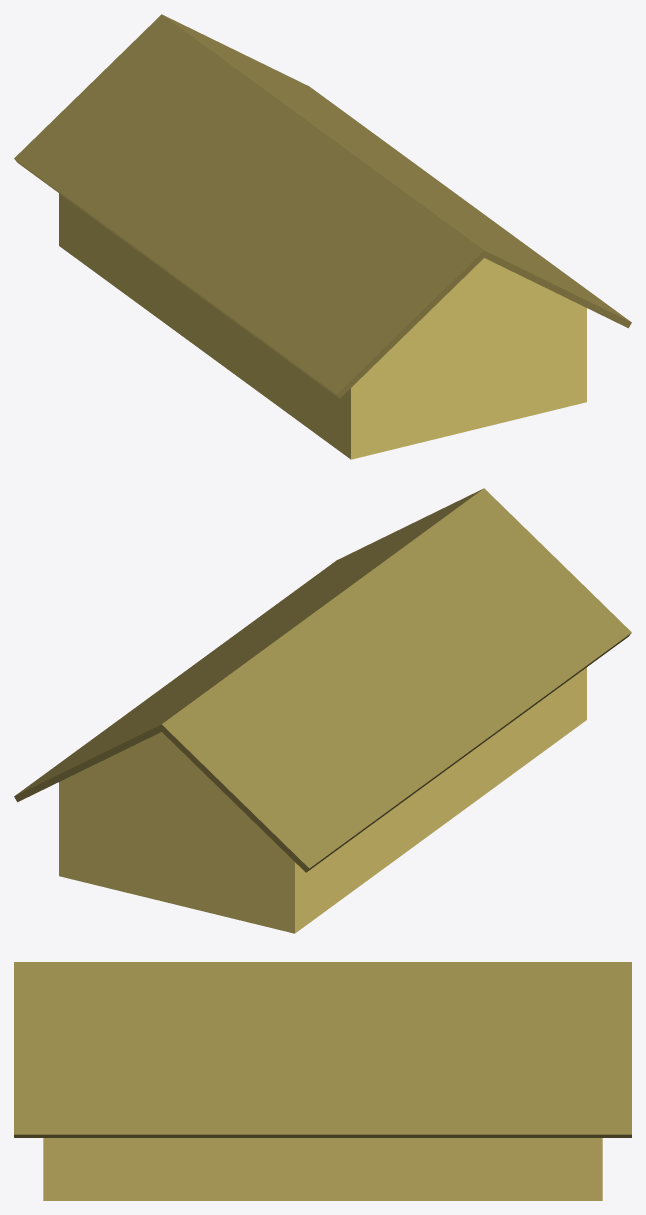
File: result.glb
3 views of the same model, one above another, from view 1: azimuth 30°, elevation 25°; view 2: azimuth 150°, elevation 25°; view 3: azimuth 270°, elevation 25° (orthographic). The views are drawn at different scales.
Visible parts, largest first — view 1: 4b96eeae-1f9f-4a34-849e-e9f027671a34__undefined (×2), 59845779-e968-4c68-a889-00f60a6faa1c__undefined; view 2: 4b96eeae-1f9f-4a34-849e-e9f027671a34__undefined (×2), 59845779-e968-4c68-a889-00f60a6faa1c__undefined; view 3: 4b96eeae-1f9f-4a34-849e-e9f027671a34__undefined, 59845779-e968-4c68-a889-00f60a6faa1c__undefined.
Boxes of the visible parts, x1=… form: 4b96eeae-1f9f-4a34-849e-e9f027671a34__undefined (×2): x1=14, y1=14, x2=631, y2=398; 59845779-e968-4c68-a889-00f60a6faa1c__undefined: x1=59, y1=193, x2=586, y2=459; 4b96eeae-1f9f-4a34-849e-e9f027671a34__undefined (×2): x1=14, y1=488, x2=631, y2=872; 59845779-e968-4c68-a889-00f60a6faa1c__undefined: x1=59, y1=667, x2=586, y2=933; 4b96eeae-1f9f-4a34-849e-e9f027671a34__undefined: x1=14, y1=962, x2=631, y2=1137; 59845779-e968-4c68-a889-00f60a6faa1c__undefined: x1=43, y1=1138, x2=602, y2=1200.
Size of the model in its own units: 1251 by 776 by 2365.
